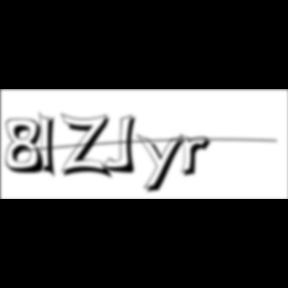8: (6, 117, 50, 176)
I: (39, 110, 63, 182)
J: (104, 114, 142, 176)
Z: (62, 112, 116, 181)
r: (180, 134, 218, 180)
y: (136, 132, 190, 196)
